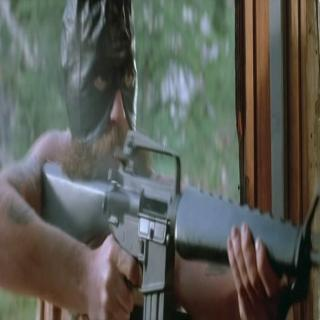gun: (42, 125, 320, 319)
